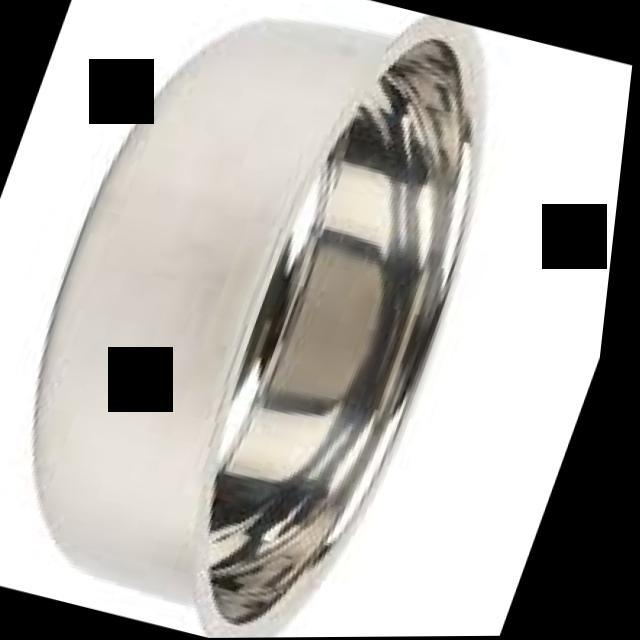Sponge Bowl: (0, 0, 563, 640)
